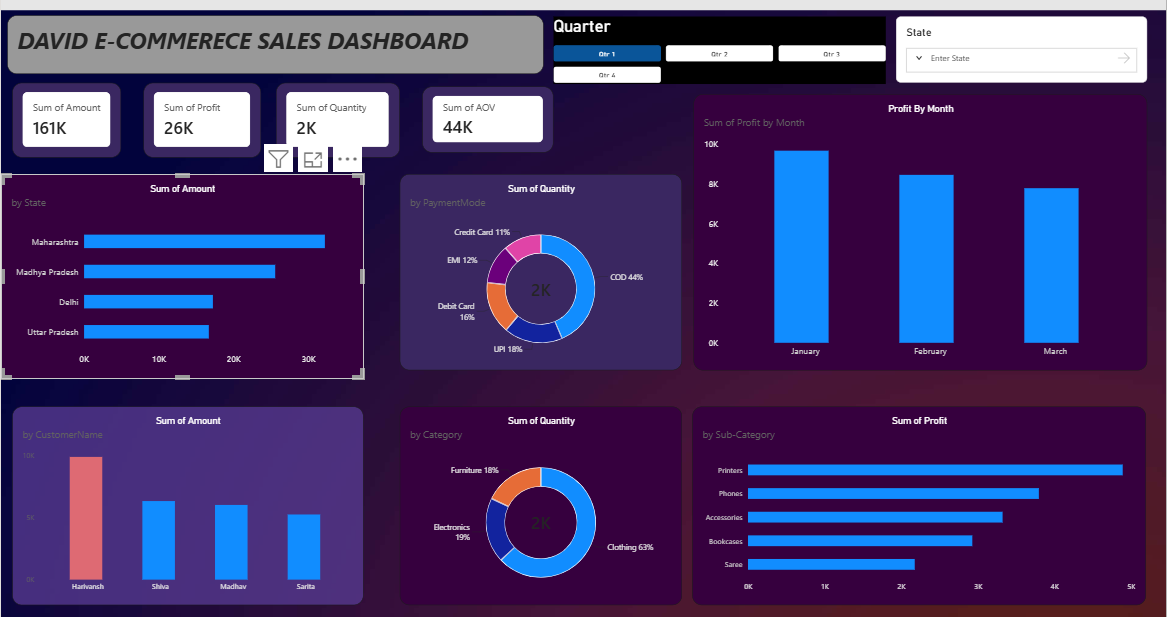

Layout of this report page (visuals, bound fields, positions):
{"tool":"powerbi","page":{"name":"Page 1","canvas":[1920,1080],"ordinal":0},"visuals":[{"type":"textbox","box":[10.3,43.2,883,96.7],"z":0},{"type":"columnChart","title":"Profit By Month","fields":{"Category":["Orders.Order Date.Variation.Date Hierarchy.Month"],"Y":["Sum(Details.Profit)"]},"box":[1140.3,172.9,747.2,454.9],"z":1000},{"type":"barChart","fields":{"Category":["Details.Sub-Category"],"Y":["Sum(Details.Profit)"]},"box":[1138.3,687.5,747.2,327.3],"z":2000},{"type":"donutChart","fields":{"Category":["Details.Category"],"Y":["Sum(Details.Quantity)"]},"box":[656.6,687.5,465.2,327.3],"z":3000},{"type":"donutChart","fields":{"Category":["Details.PaymentMode"],"Y":["Sum(Details.Quantity)"]},"box":[656.6,304.6,465.2,323.2],"z":4000},{"type":"cardVisual","fields":{"Data":["Sum(Details.Amount)"]},"box":[18.5,154.4,179.1,123.5],"z":5000},{"type":"cardVisual","fields":{"Data":["Sum(Details.Quantity)"]},"box":[452.8,154.4,203.8,123.5],"z":6000},{"type":"cardVisual","fields":{"Data":["Sum(Details.Profit)"]},"box":[234.6,154.4,193.5,123.5],"z":7000},{"type":"cardVisual","fields":{"Data":["Sum(Details.AOV)"]},"box":[693.7,160.5,216.1,109.1],"z":8000},{"type":"barChart","fields":{"Category":["Orders.State"],"Y":["Sum(Details.Amount)"]},"box":[0,304.6,596.9,337.6],"z":9000},{"type":"columnChart","fields":{"Category":["Orders.CustomerName"],"Y":["Sum(Details.Amount)"]},"box":[18.5,687.5,578.4,327.3],"z":10000},{"type":"advancedSlicerVisual","fields":{"Values":["Orders.Order Date.Variation.Date Hierarchy.Quarter"]},"box":[909.8,45.3,547.5,111.1],"z":11000},{"type":"textSlicer","fields":{"Values":["Orders.State"]},"box":[1473.8,45.3,413.7,109.1],"z":11001}]}

Visuals, with their boxes on the page's 1920x1080 design canvas (x1, y1, x2, y2). These are canvas units, not pixel positions in the 1167x617 screenshot, which may show the page scaled, cropped or inside an application window:
textbox: bbox=[10, 43, 893, 140]
"Profit By Month" columnChart: bbox=[1140, 173, 1888, 628]
barChart - Details.Sub-Category x Sum(Details.Profit): bbox=[1138, 688, 1886, 1015]
donutChart - Details.Category x Sum(Details.Quantity): bbox=[657, 688, 1122, 1015]
donutChart - Details.PaymentMode x Sum(Details.Quantity): bbox=[657, 305, 1122, 628]
cardVisual - Sum(Details.Amount): bbox=[18, 154, 198, 278]
cardVisual - Sum(Details.Quantity): bbox=[453, 154, 657, 278]
cardVisual - Sum(Details.Profit): bbox=[235, 154, 428, 278]
cardVisual - Sum(Details.AOV): bbox=[694, 160, 910, 270]
barChart - Orders.State x Sum(Details.Amount): bbox=[0, 305, 597, 642]
columnChart - Orders.CustomerName x Sum(Details.Amount): bbox=[18, 688, 597, 1015]
advancedSlicerVisual - Orders.Order Date.Variation.Date Hierarchy.Quarter: bbox=[910, 45, 1457, 156]
textSlicer - Orders.State: bbox=[1474, 45, 1888, 154]
